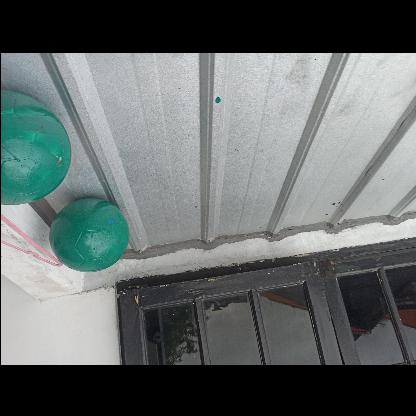green_ball: (52, 196, 128, 274)
